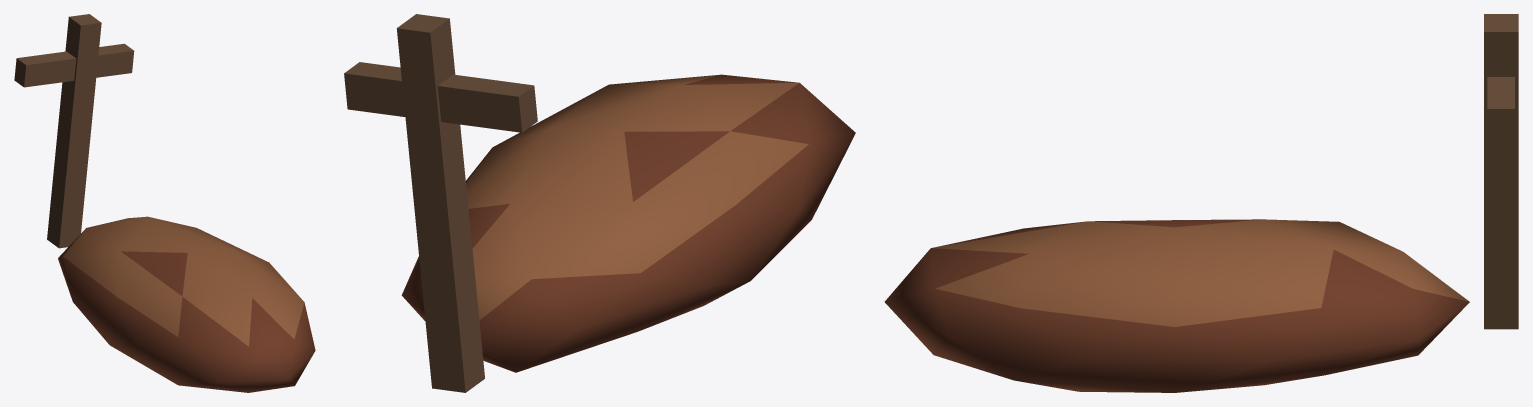
The model's file is grave_mound.glb.
3 views of the same model, side by side, from view 1: azimuth 30°, elevation 25°; view 2: azimuth 150°, elevation 25°; view 3: azimuth 270°, elevation 25° (orthographic). The views are drawn at different scales.
Parts seen in each view (by area): view 1: grave_mound; view 2: grave_mound; view 3: grave_mound.
Boxes of the visible parts, <box> form: grave_mound: <box>14,14,315,392</box>; grave_mound: <box>344,14,855,392</box>; grave_mound: <box>884,14,1518,392</box>.
Bounding box in the file's own units: 0.4029 × 0.5672 × 0.9137.
